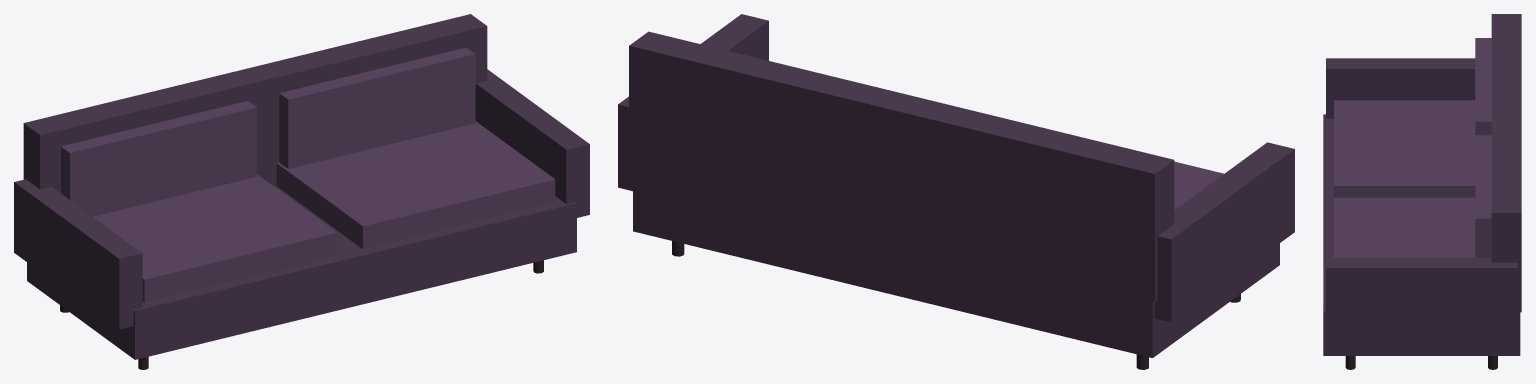
The model's file is sofa.glb.
3 views of the same model, side by side, from view 1: azimuth 30°, elevation 25°; view 2: azimuth 150°, elevation 25°; view 3: azimuth 270°, elevation 25° (orthographic). The views are drawn at different scales.
Bounding box in the file's own units: 1.81 × 0.67 × 0.725.
